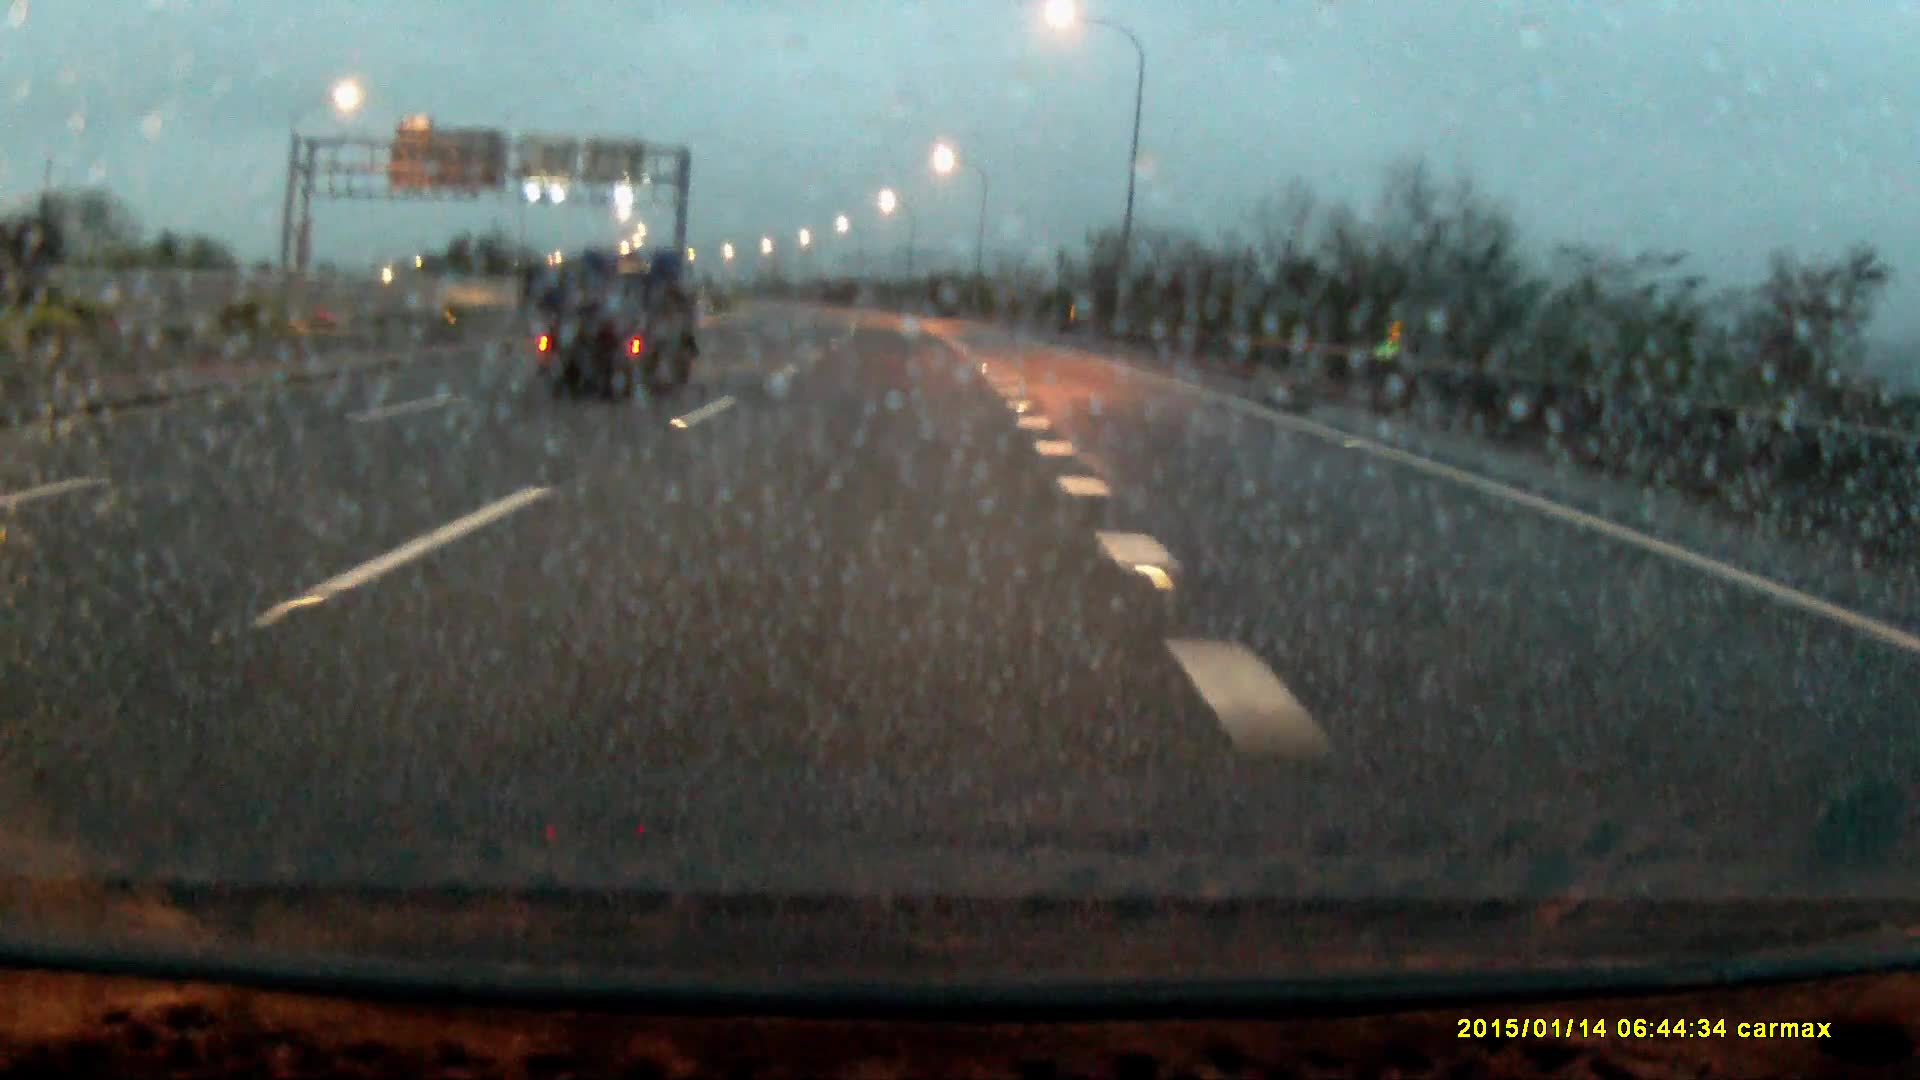vehicle: (529, 252, 705, 401)
